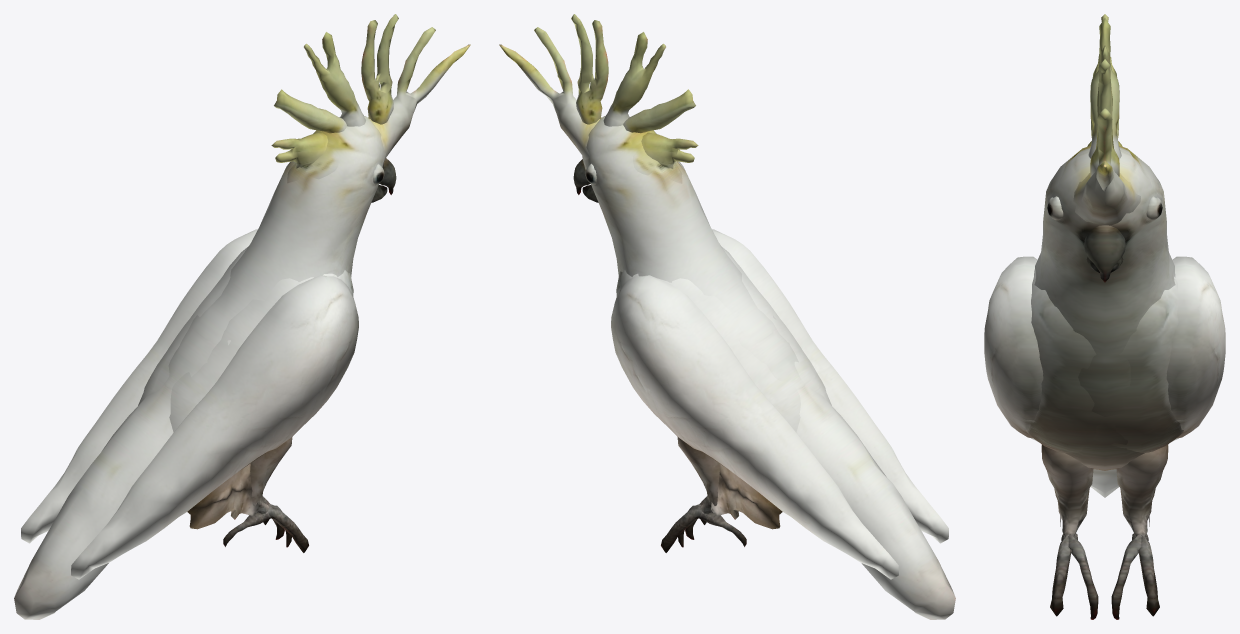
The model's file is sulphur-crested-cockatoo-18fca4e4.glb.
The picture shows the model from 3 angles, left to right: view 1: azimuth 30°, elevation 25°; view 2: azimuth 150°, elevation 25°; view 3: azimuth 270°, elevation 25°; orthographic projection. The views are drawn at different scales.
Parts seen in each view (by area): view 1: Object_2; view 2: Object_2; view 3: Object_2.
Boxes of the visible parts, x1,y1,x2,y2 form: Object_2: (14, 14, 470, 619); Object_2: (499, 14, 955, 619); Object_2: (984, 14, 1225, 619).
Size of the model in its own units: 1.54 by 1.67 by 0.5623.
1 material, 1 textured.
